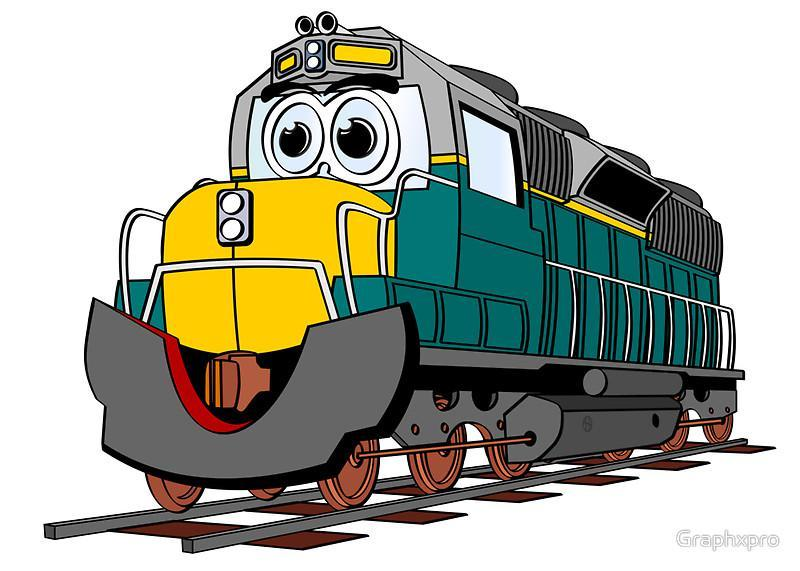train: (59, 5, 747, 522)
